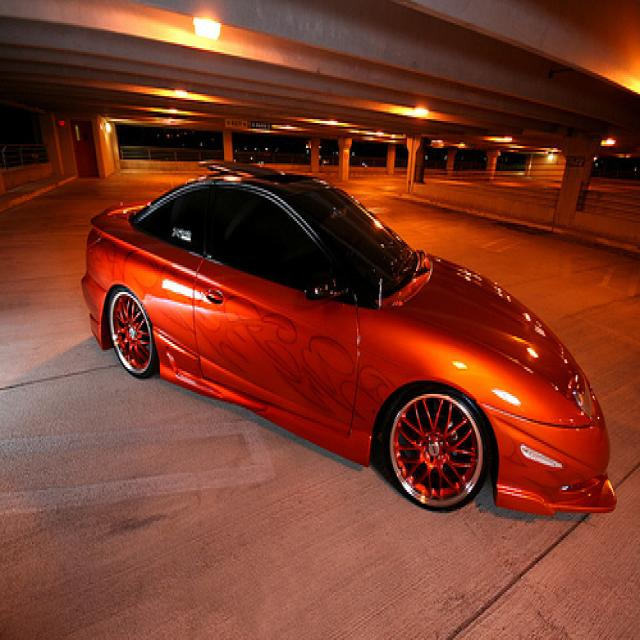Car: (86, 157, 616, 527)
